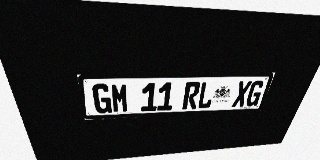1: (157, 82, 175, 111), (141, 83, 158, 111)
G: (92, 84, 112, 114), (244, 81, 266, 106)
L: (197, 82, 216, 109)
M: (110, 83, 129, 113)
R: (182, 82, 201, 109)
X: (231, 81, 252, 107)
